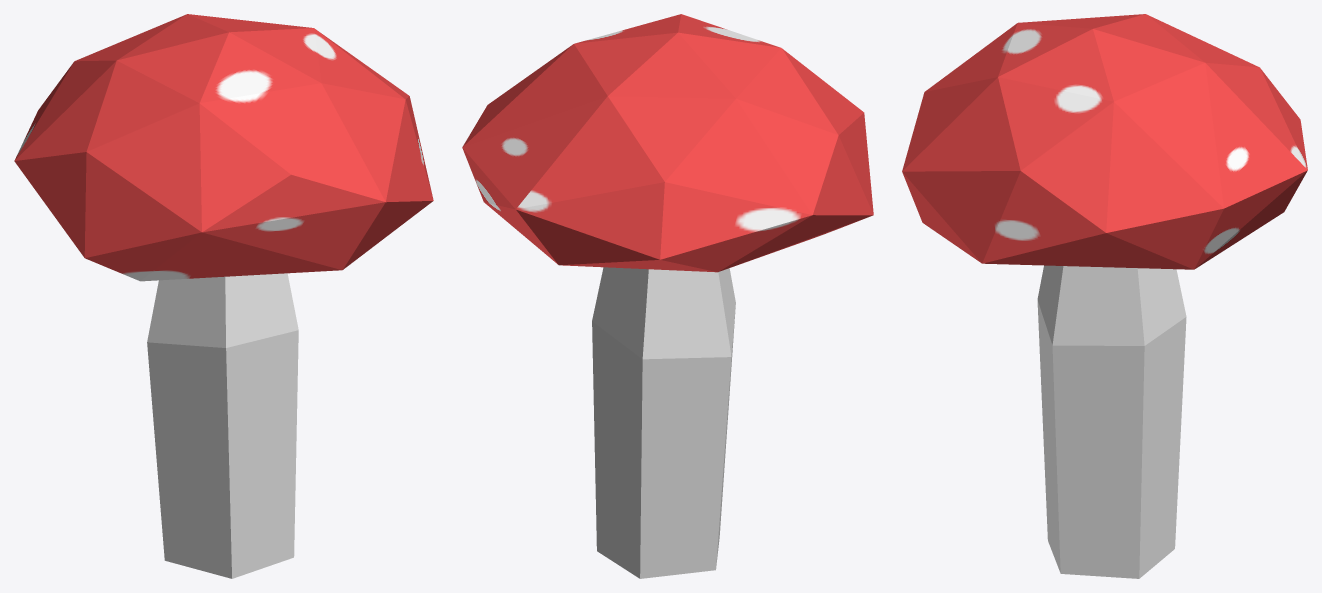
The model's file is mushroom6.fbx.
3 renders of one model, left to right at view 1: azimuth 30°, elevation 25°; view 2: azimuth 150°, elevation 25°; view 3: azimuth 270°, elevation 25°, orthographic.
Visible parts, largest first — view 1: Mushroom_e_02; view 2: Mushroom_e_02; view 3: Mushroom_e_02.
Part boxes in pixels (bbox=[...]): Mushroom_e_02: bbox=[14, 14, 433, 578]; Mushroom_e_02: bbox=[462, 14, 873, 578]; Mushroom_e_02: bbox=[902, 14, 1307, 578].
Size of the model in its own units: 25.04 by 25.68 by 35.49.
1 material, 1 textured.
